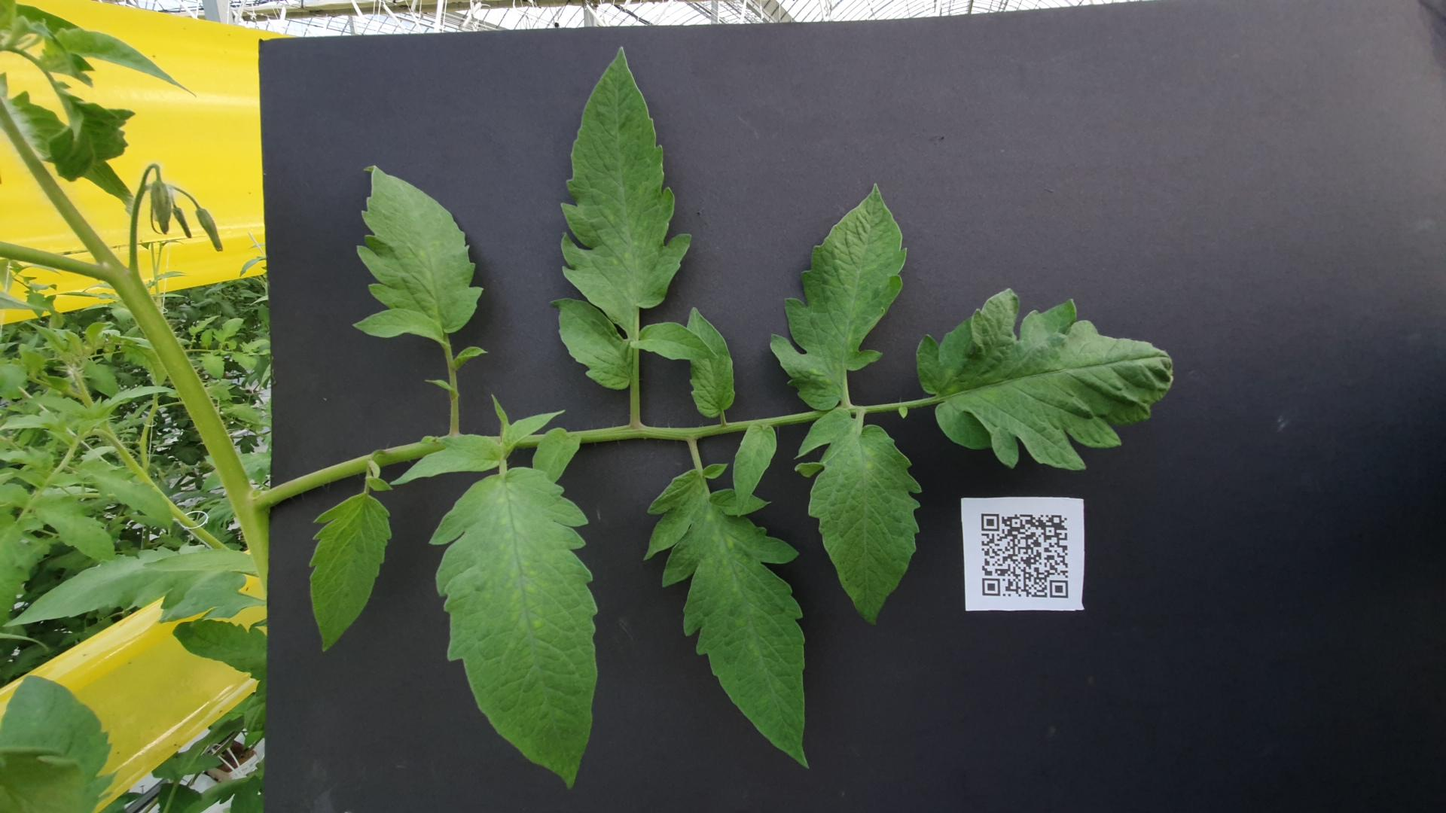Healthy: (754, 309, 1366, 404), (46, 240, 617, 337), (76, 363, 625, 455), (602, 514, 935, 660), (716, 433, 1129, 511), (328, 446, 722, 520), (838, 198, 1151, 274), (325, 0, 475, 103), (284, 172, 568, 221), (581, 220, 676, 283), (702, 385, 901, 414), (519, 412, 694, 437)
